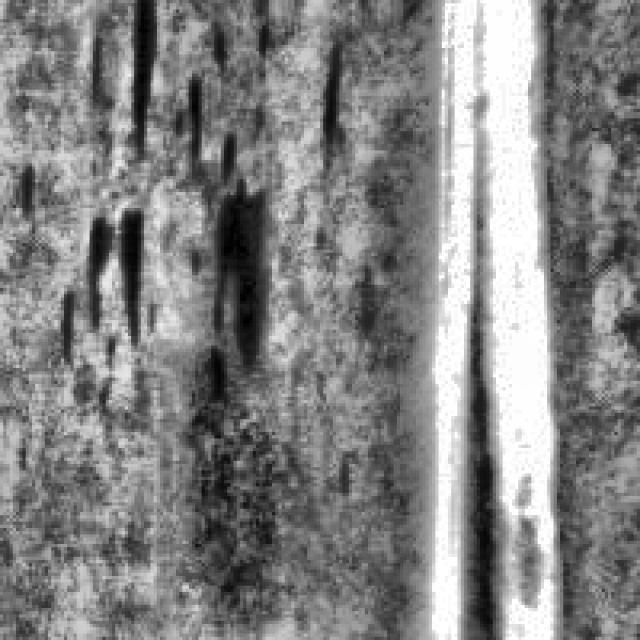Inclusion: (419, 0, 566, 634)
Patches: (195, 157, 269, 368), (54, 202, 141, 346), (119, 0, 182, 154), (304, 51, 342, 157)
